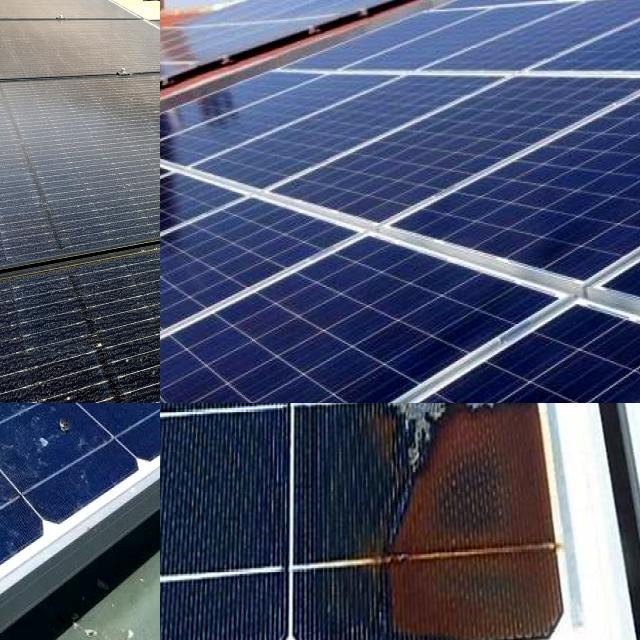bird: (33, 587, 160, 640), (16, 403, 98, 474), (0, 526, 53, 590), (16, 403, 92, 441), (0, 403, 43, 440), (0, 403, 46, 437), (120, 403, 160, 436), (130, 403, 160, 441), (44, 403, 87, 426), (0, 403, 20, 450), (61, 403, 108, 422), (0, 403, 44, 423), (0, 403, 39, 419), (0, 403, 42, 417)
crack: (160, 10, 640, 403), (160, 214, 568, 403)
shadow: (351, 403, 567, 640)
